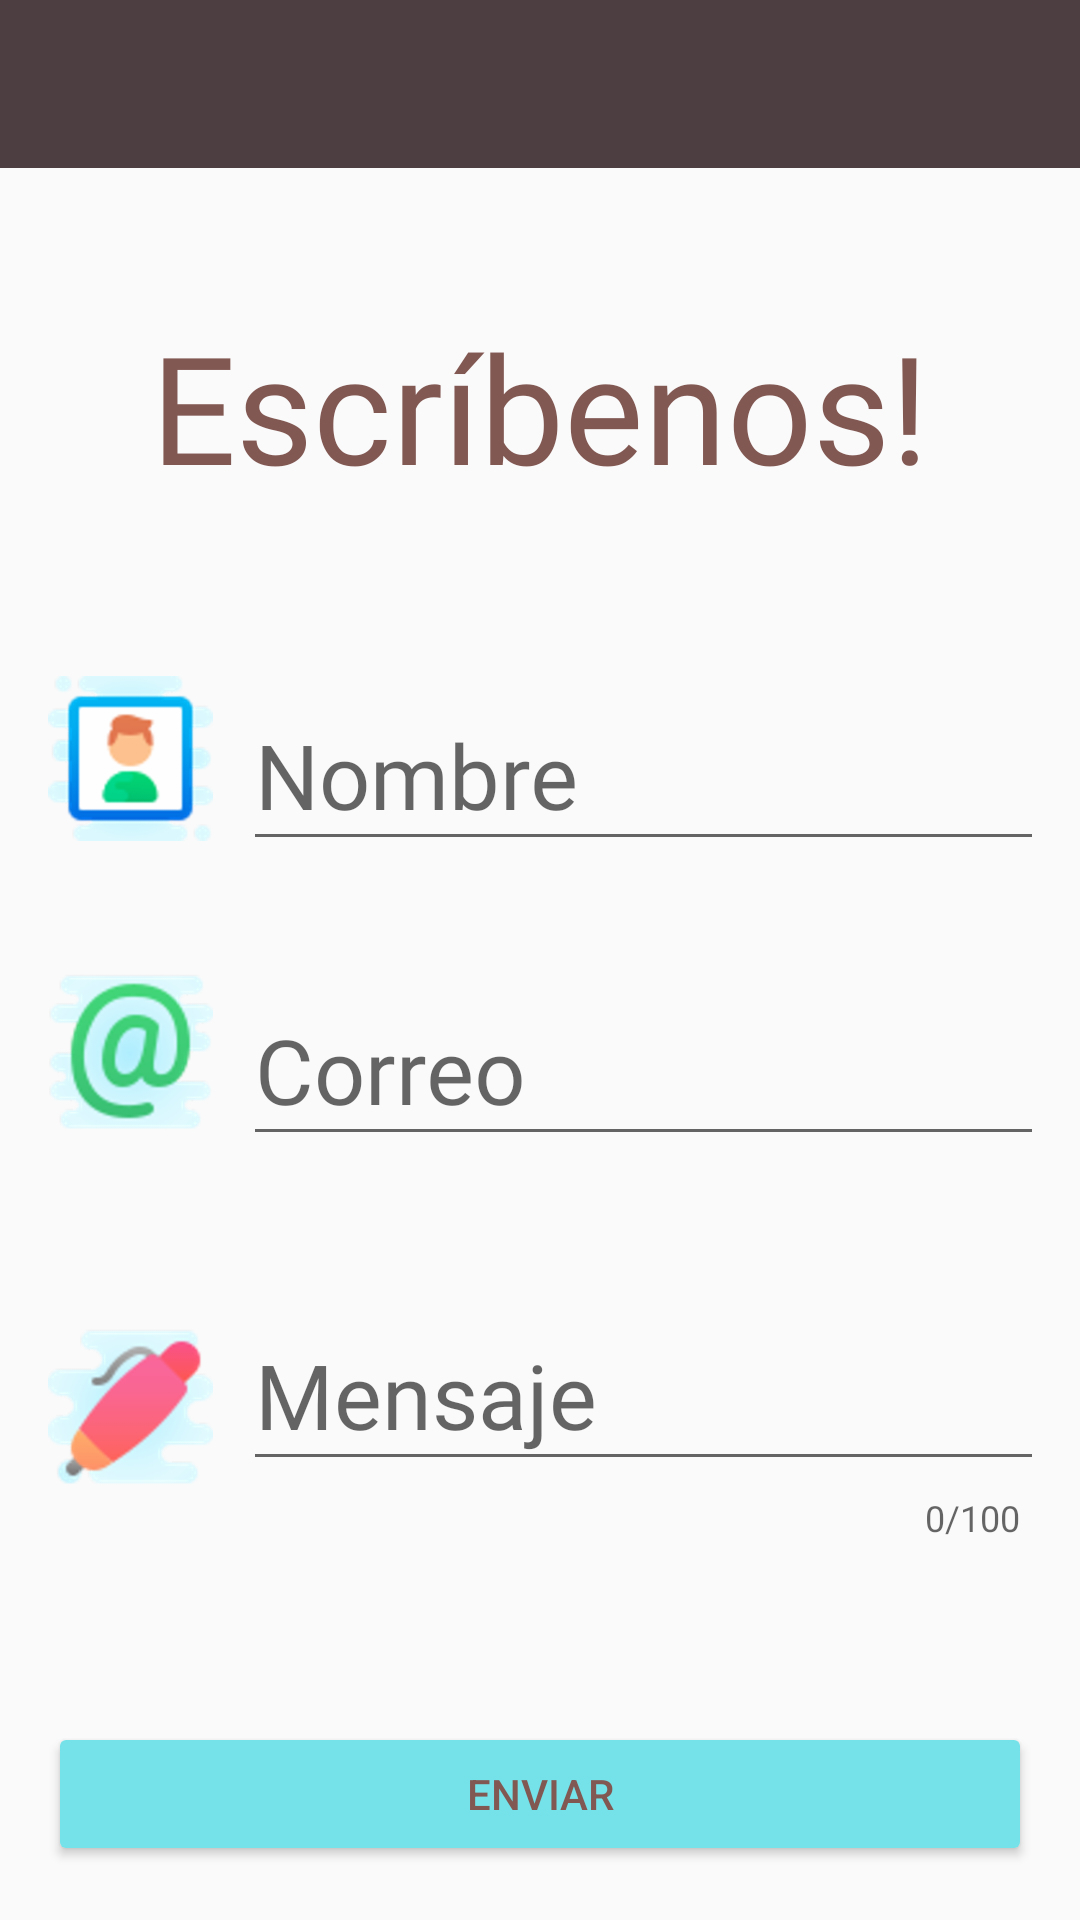

Where to tap for icons on this 1080w x 1920h app screen, as [x,y]:
description: [130,1407]
email: [132,1052]
